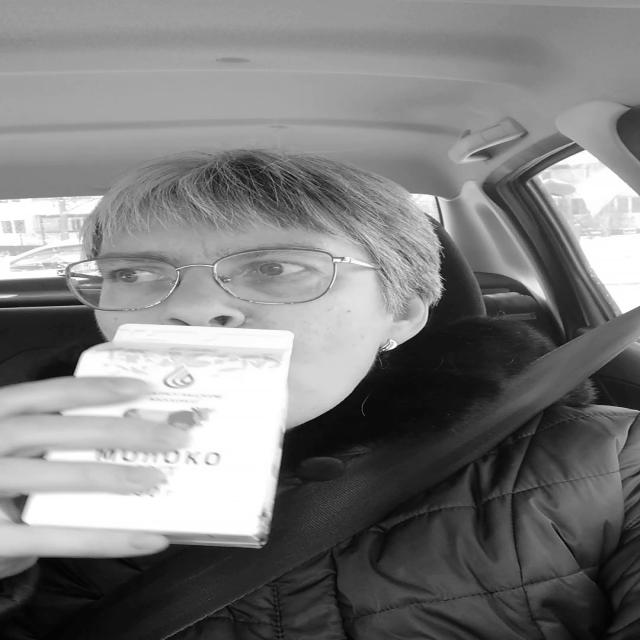Drinking: (24, 320, 303, 558)
Seatbelt: (76, 310, 640, 636)
